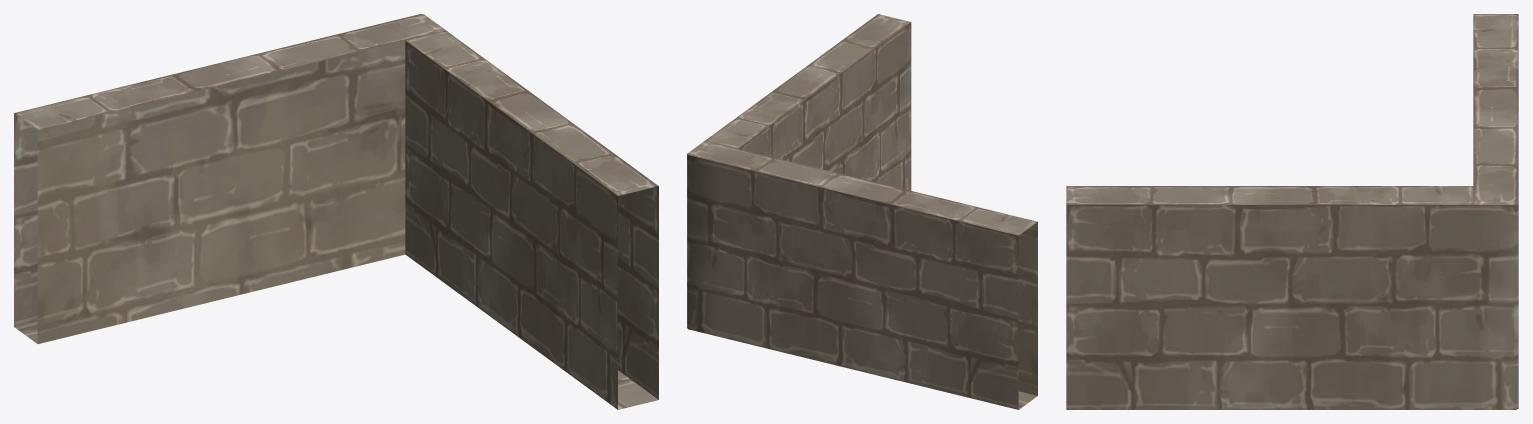
File: stairs_exterior_sides45.glb
3 renders of one model, left to right at view 1: azimuth 30°, elevation 25°; view 2: azimuth 150°, elevation 25°; view 3: azimuth 270°, elevation 25°, orthographic. The views are drawn at different scales.
Bounding box in the file's own units: 2 × 1 × 2.
Materials: 1 (1 with a texture image).
